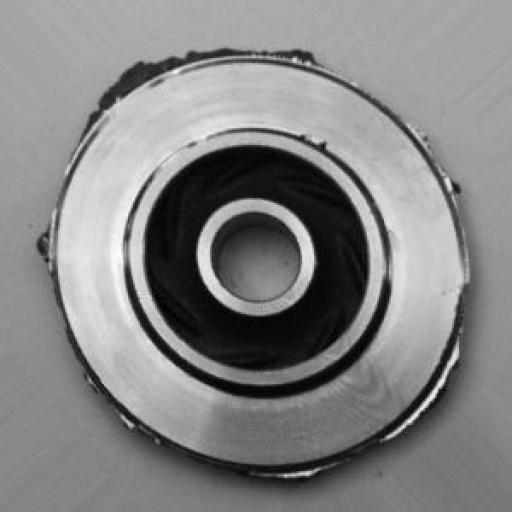defect: (27, 23, 504, 487)
